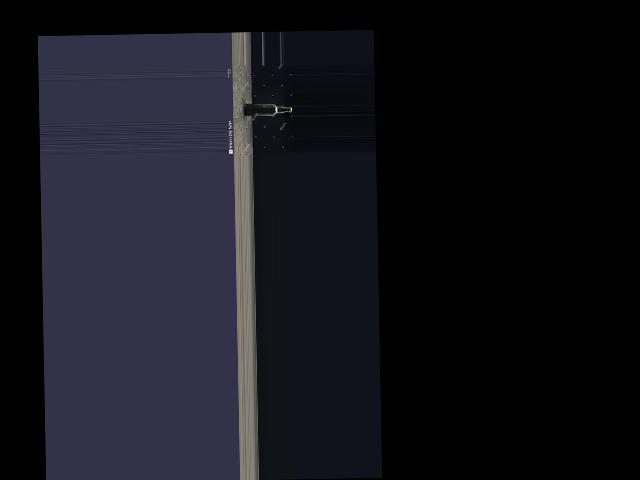beer: (244, 102, 291, 114)
